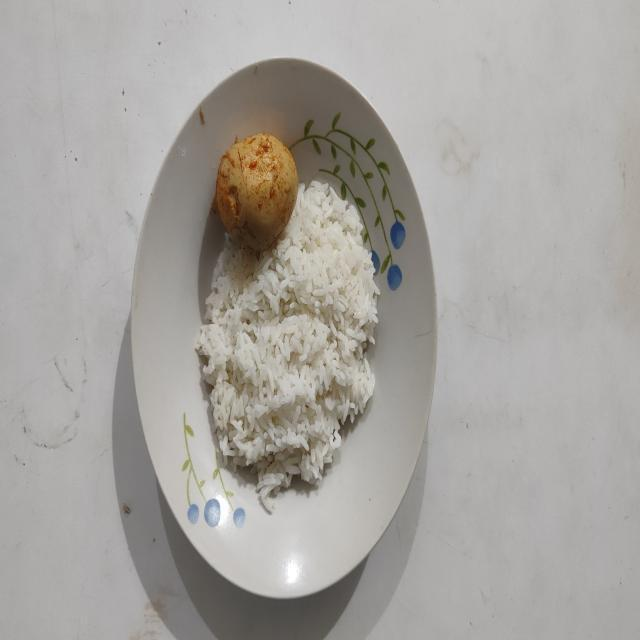nasi_putih: (196, 181, 380, 510)
